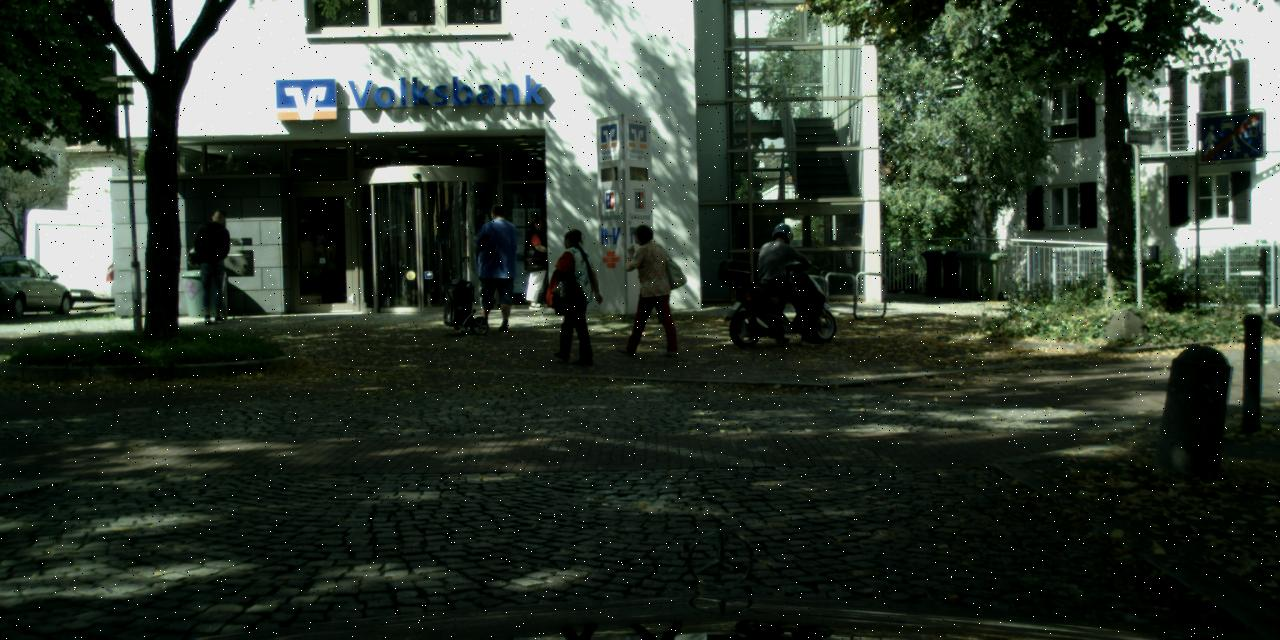ped: (544, 228, 599, 362), (618, 223, 671, 354), (470, 204, 521, 326), (764, 222, 812, 342), (193, 208, 239, 322), (517, 215, 555, 308)
